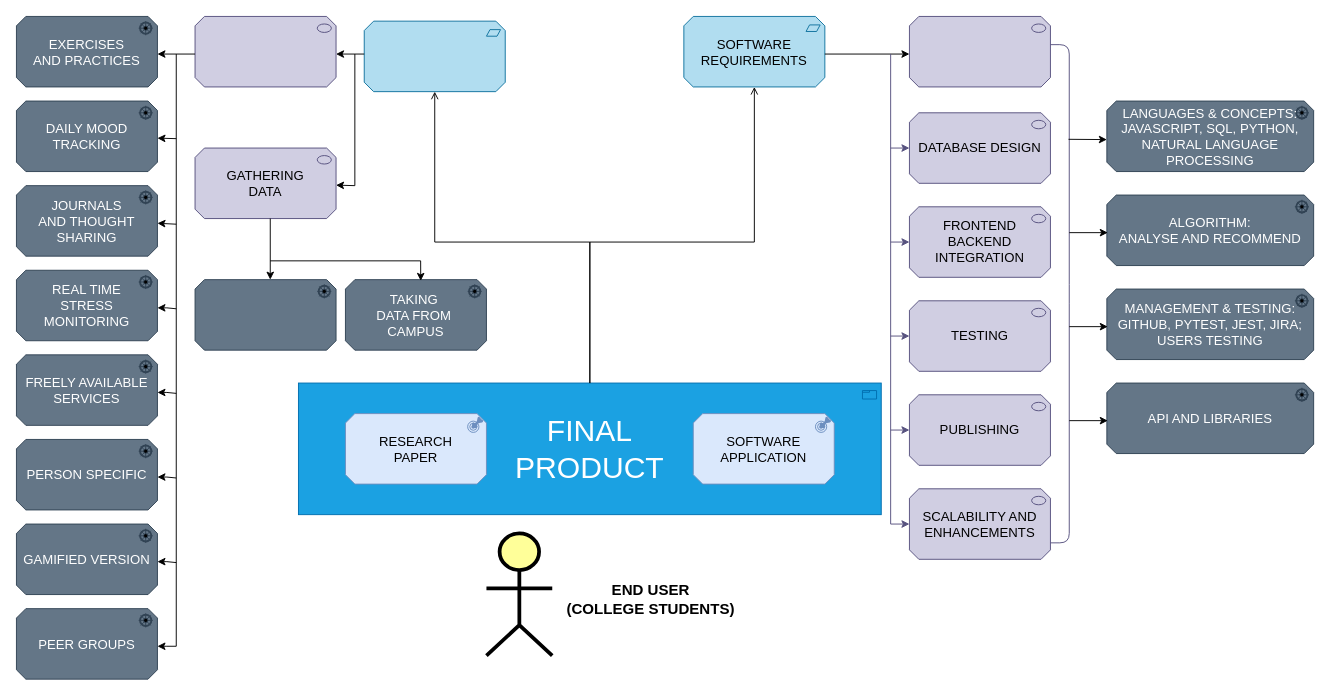
The diagram is 1330 pixels wide and 696 high, and some of its shapes have lost their labels. The shapes that lost their labels are listed below. From the top down, each one's box as (x1, y1, x2, y2) in pixels, then its label:
(194, 16, 336, 87): EXTRACTING FEATURES
(363, 20, 505, 92): COMMON REQUIREMENTS
(909, 16, 1050, 87): UI DESIGN
(194, 279, 336, 350): TAKING DATA FROM SURVEYS
